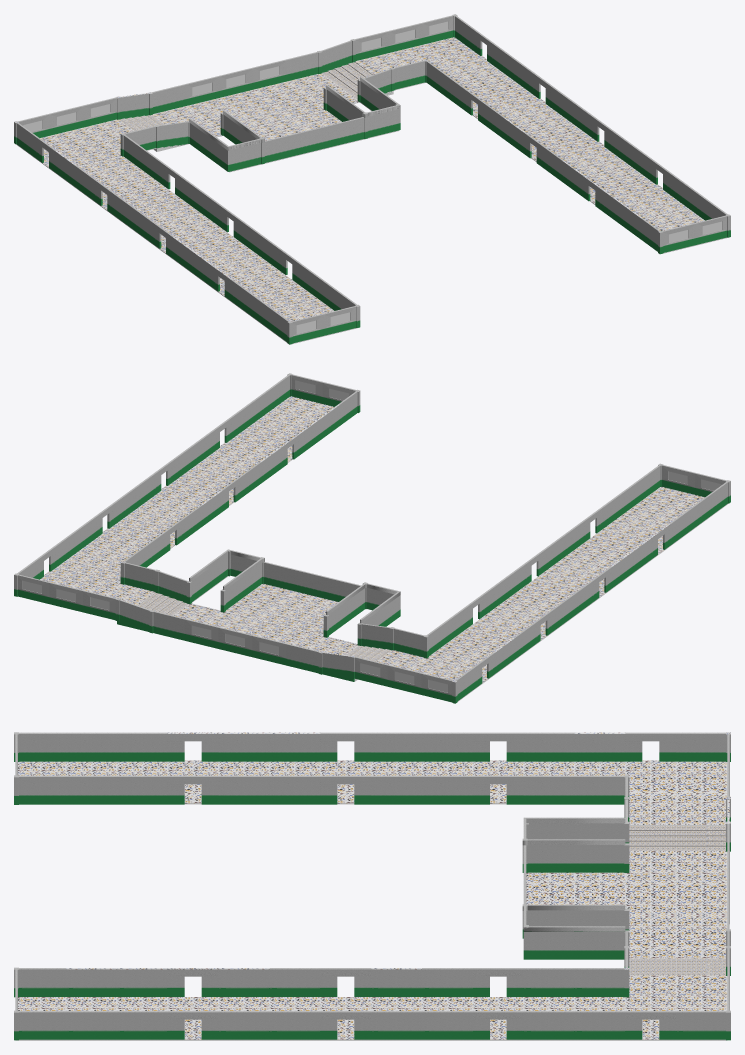
The model's file is 1stFloor_hall.fbx.
3 views of the same model, one above another, from view 1: azimuth 30°, elevation 25°; view 2: azimuth 150°, elevation 25°; view 3: azimuth 270°, elevation 25° (orthographic). The views are drawn at different scales.
Parts seen in each view (by area): view 1: 1stFloor; view 2: 1stFloor; view 3: 1stFloor.
Boxes of the visible parts, box(x1,y1,x2,y2) form: 1stFloor: box(14, 14, 730, 344); 1stFloor: box(14, 373, 730, 703); 1stFloor: box(14, 732, 730, 1040).
Size of the model in its own units: 13051 by 720 by 14100.
